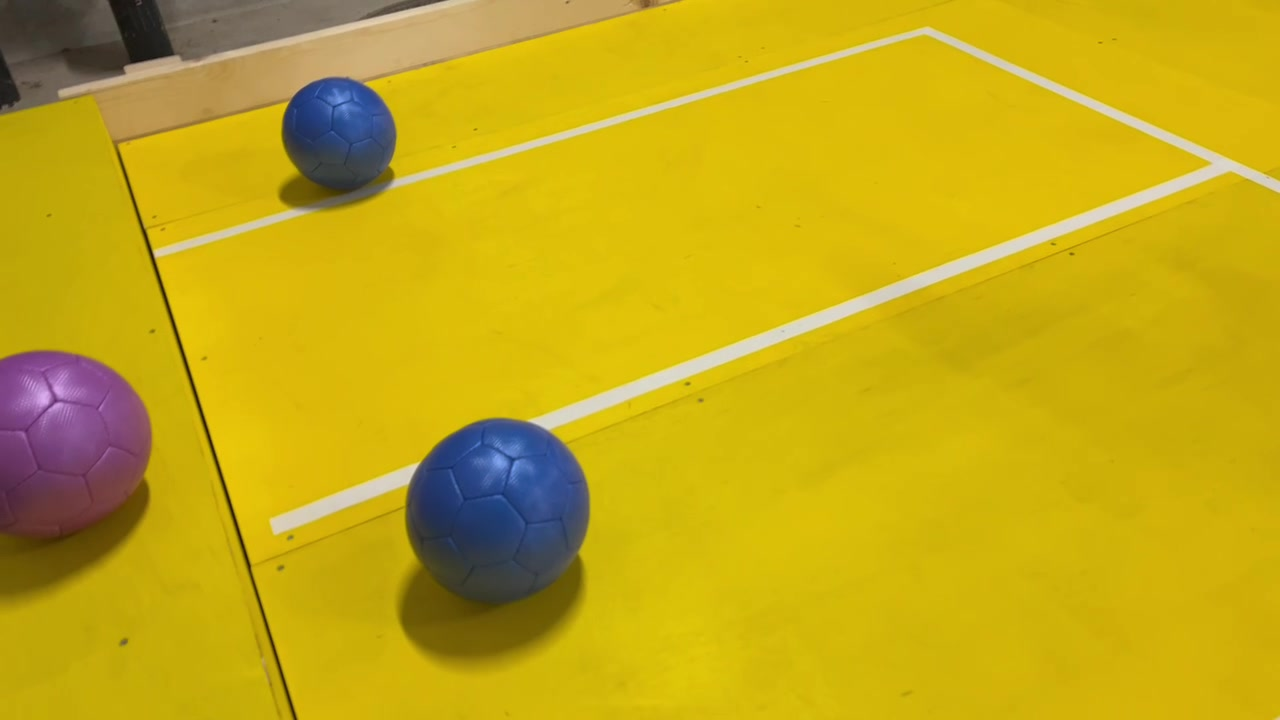blue: (403, 408, 595, 599), (275, 71, 397, 196)
